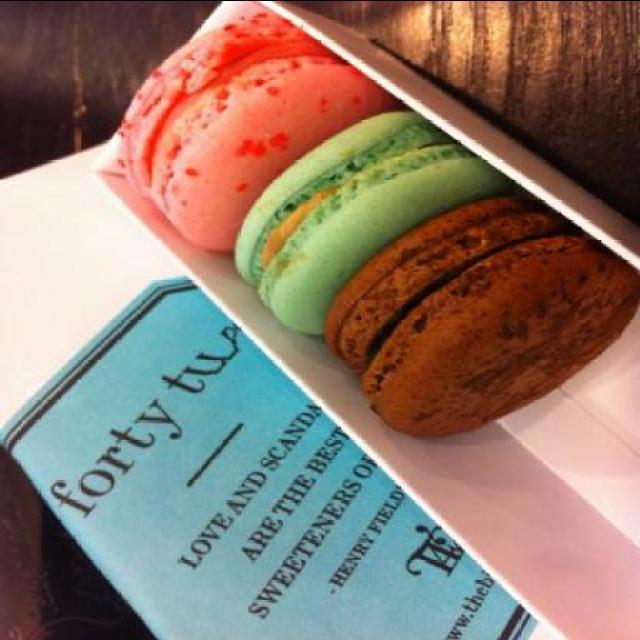Macaron: (111, 11, 623, 434)
